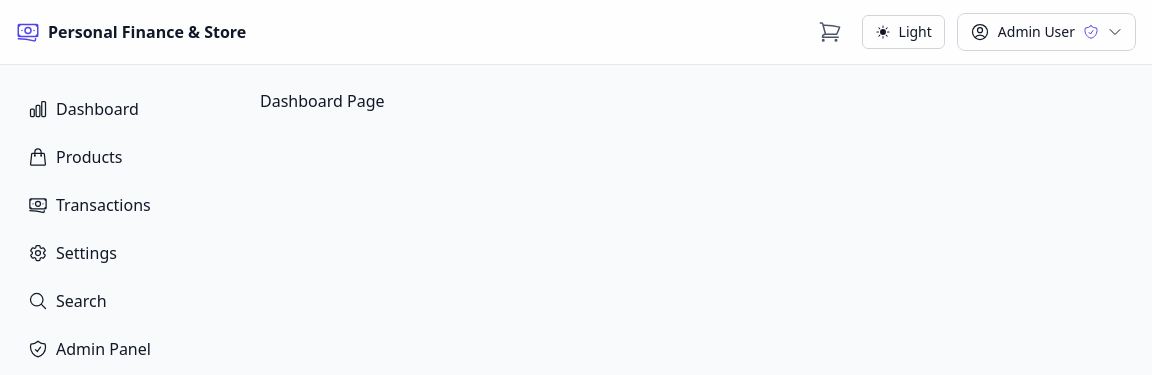
Test case: User menu navigation › navigates to Admin Panel from user menu
Step 1. Click the button "Admin User" → (1046, 32), box [957,13,1136,51]
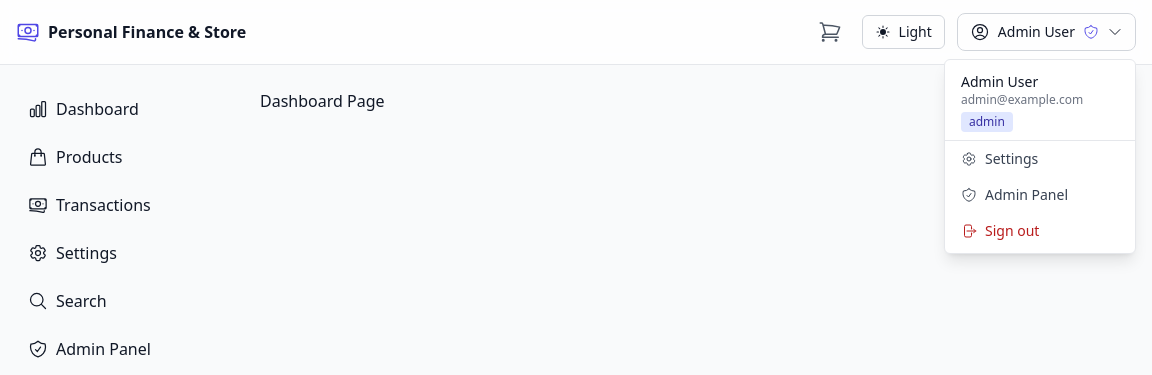
Step 2. Click the link "Admin Panel" → (1014, 194), box [961,185,1068,204]
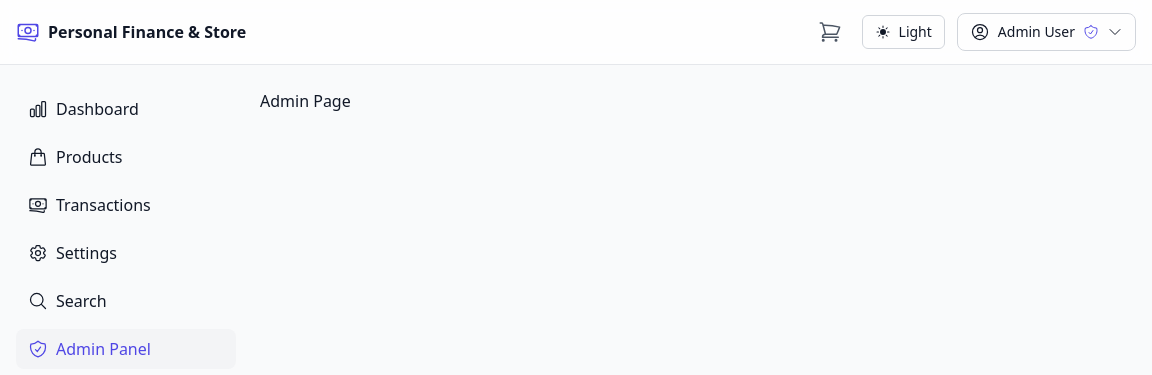
Expected: the text "Admin Page" is shown, [260,90,351,112]
